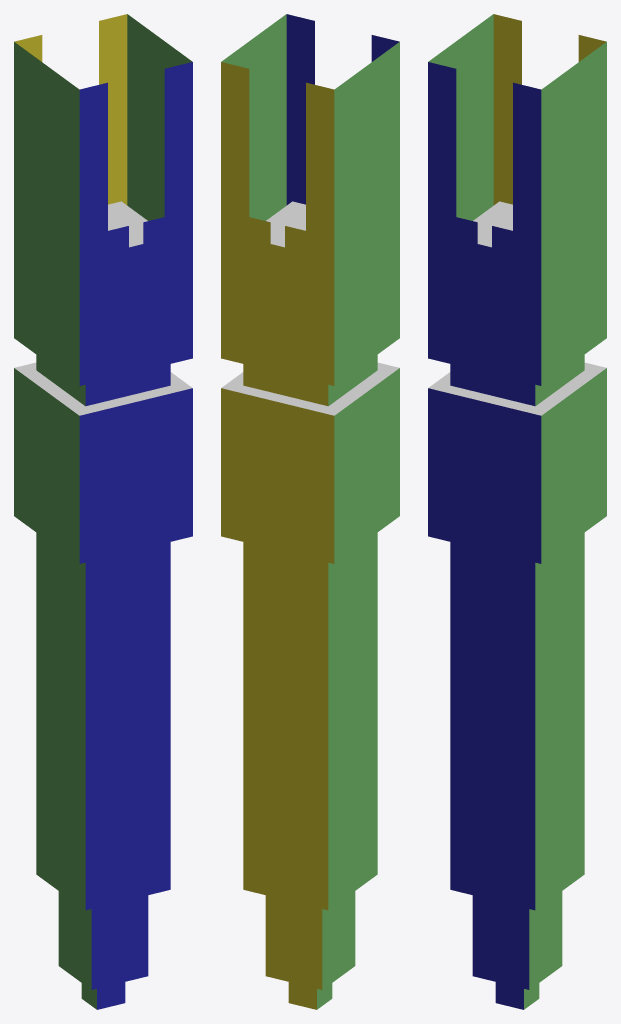
Rendered from cal_kestis.obj.
The picture shows the model from 3 angles, left to right: view 1: azimuth 30°, elevation 25°; view 2: azimuth 150°, elevation 25°; view 3: azimuth 330°, elevation 25°; orthographic projection.
Parts seen in each view (by area): view 1: emitter, body, switch, pommel; view 2: emitter, body, switch, pommel; view 3: emitter, body, switch, pommel.
Part boxes in pixels (<box>): emitter: <box>14,14,192,385</box>; body: <box>36,533,170,910</box>; switch: <box>14,355,192,563</box>; pommel: <box>58,891,148,1009</box>; emitter: <box>221,14,399,385</box>; body: <box>243,533,377,910</box>; switch: <box>221,355,399,563</box>; pommel: <box>265,891,355,1009</box>; emitter: <box>428,14,606,385</box>; body: <box>450,533,584,910</box>; switch: <box>428,355,606,563</box>; pommel: <box>472,891,562,1009</box>.
Size of the model in its own units: 0.4 by 3.2 by 0.4.
1 material, 1 textured.
